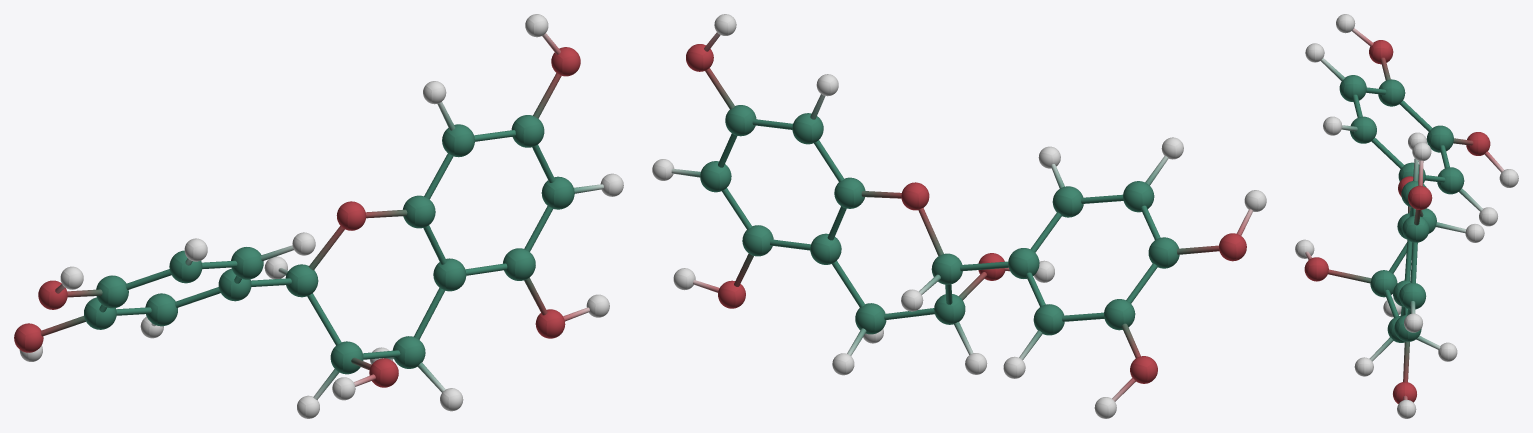
Rendered from Epicatechin.fbx.
3 renders of one model, left to right at view 1: azimuth 30°, elevation 25°; view 2: azimuth 150°, elevation 25°; view 3: azimuth 270°, elevation 25°, orthographic. The views are drawn at different scales.
Parts seen in each view (by area): view 1: curMeshHyperballExportedMesh; view 2: curMeshHyperballExportedMesh; view 3: curMeshHyperballExportedMesh.
Boxes of the visible parts, <box> form: curMeshHyperballExportedMesh: <box>14,14,623,418</box>; curMeshHyperballExportedMesh: <box>652,14,1266,418</box>; curMeshHyperballExportedMesh: <box>1295,14,1518,418</box>.
Size of the model in its own units: 11.92 by 6.44 by 4.65.
